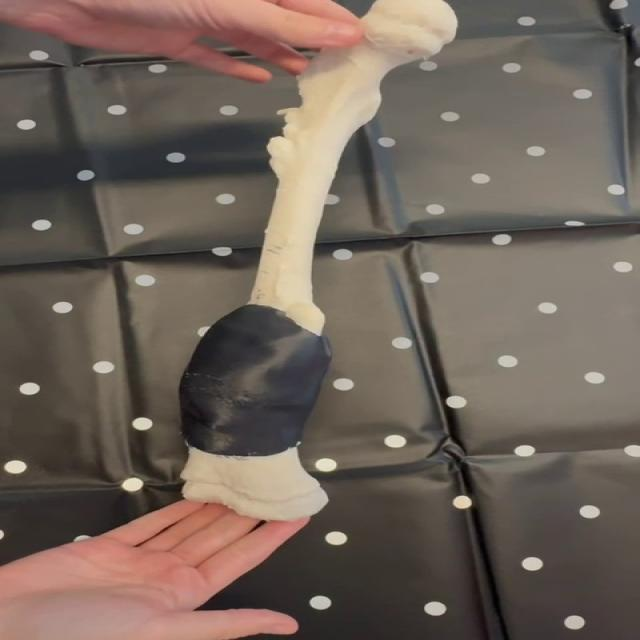bones: (179, 0, 457, 520)
